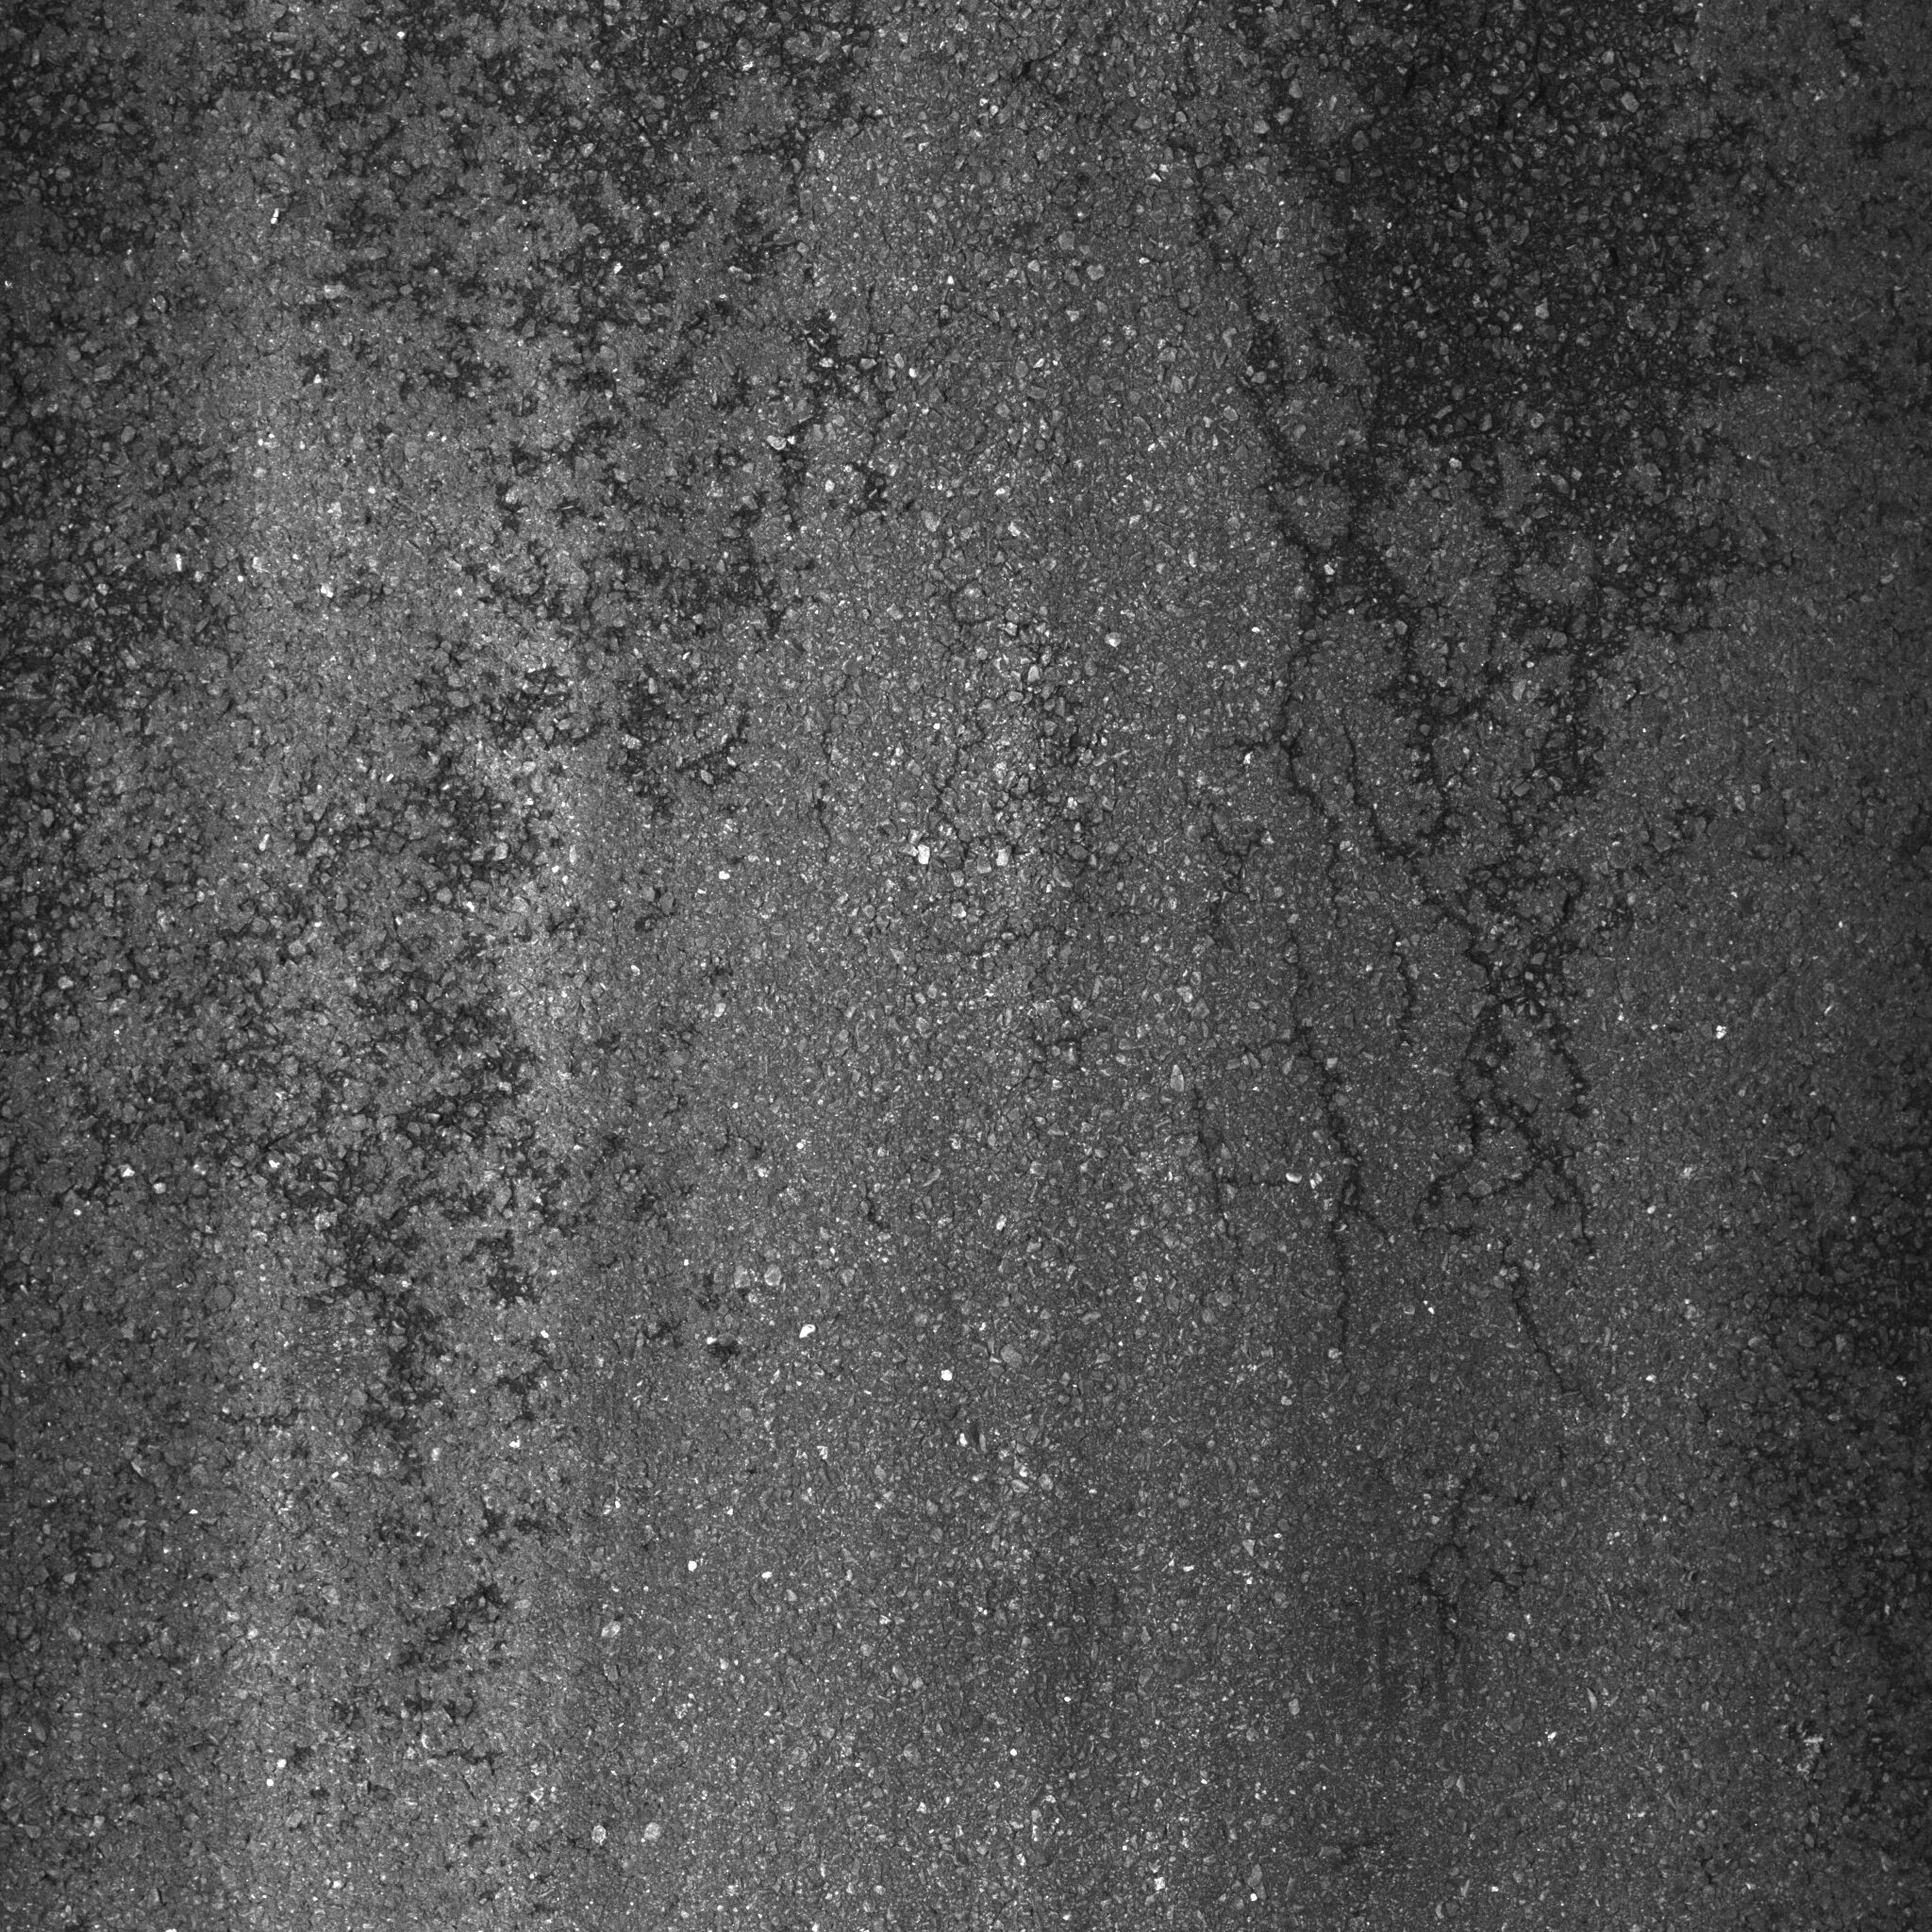alligator: (5, 4, 893, 1585), (1047, 27, 1835, 1677)
